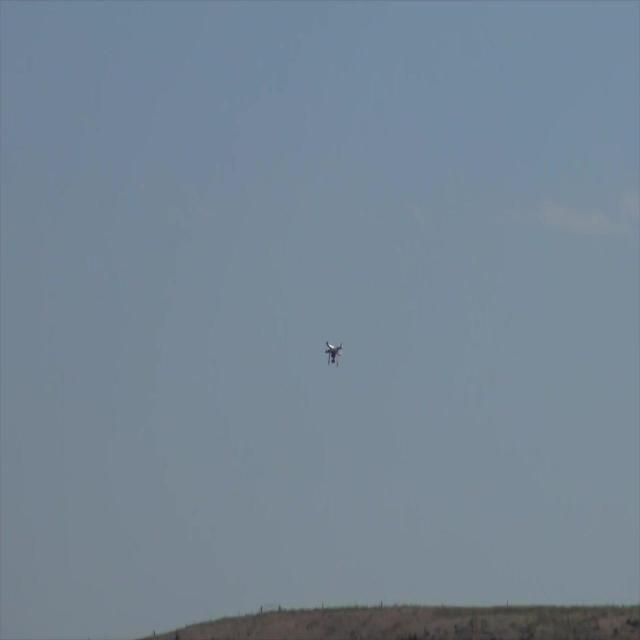UAV: (324, 341, 344, 368)
